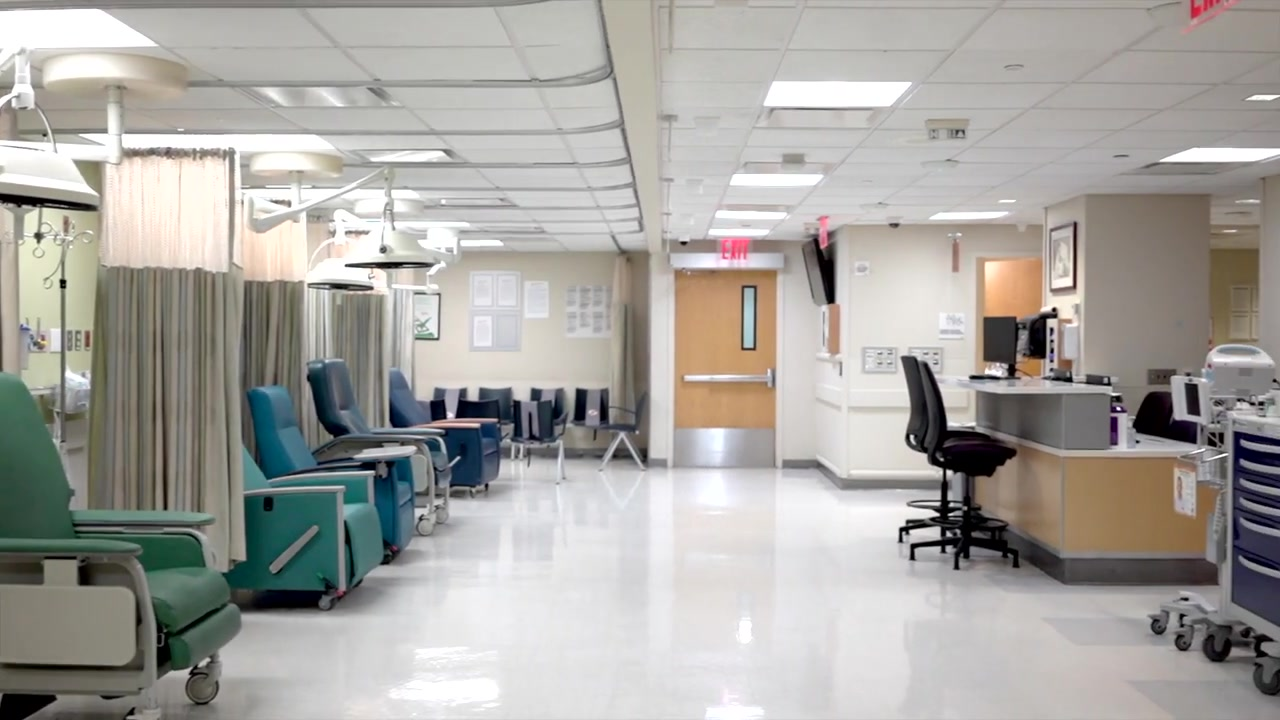TV: (802, 237, 836, 306)
chair: (909, 357, 1019, 570), (899, 355, 990, 542), (507, 399, 570, 483), (599, 391, 653, 469), (569, 387, 612, 459), (528, 386, 568, 443), (1132, 391, 1178, 438), (1131, 390, 1174, 436), (478, 385, 515, 426), (453, 398, 501, 422), (432, 386, 466, 419)
computer: (981, 314, 1018, 366)
counter: (956, 372, 1221, 583)
countertop: (956, 372, 1112, 396), (1111, 432, 1217, 459)
curtain: (86, 147, 246, 573), (310, 230, 389, 451), (242, 210, 308, 470), (610, 254, 636, 425), (391, 269, 413, 391)
handle: (1237, 555, 1280, 580), (1238, 517, 1280, 539), (1239, 496, 1280, 518), (1238, 477, 1280, 496), (1238, 458, 1280, 475), (1240, 438, 1280, 453)
iv_pole: (36, 219, 98, 483)
light_switch: (1147, 369, 1177, 386)
medical_drawer: (1208, 409, 1280, 689)
push_latch: (683, 372, 773, 384)
sofa: (1, 371, 244, 720), (246, 386, 414, 565), (223, 442, 385, 610), (306, 358, 453, 536), (389, 367, 501, 499)
surgical_light: (1, 137, 106, 215), (344, 228, 442, 271), (303, 252, 380, 306)
